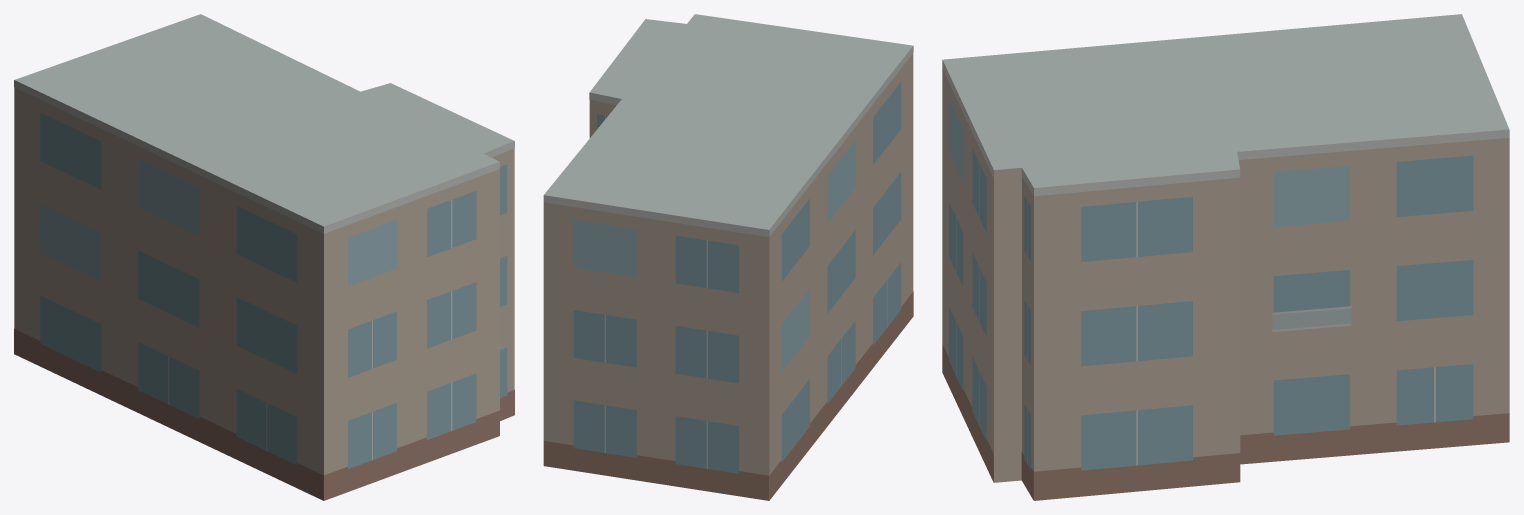
The model's file is survey-upis-32640936.glb.
The picture shows the model from 3 angles, left to right: view 1: azimuth 30°, elevation 25°; view 2: azimuth 150°, elevation 25°; view 3: azimuth 270°, elevation 25°; orthographic projection. The views are drawn at different scales.
Parts seen in each view (by area): view 1: survey-upis-32640936.tmp; view 2: survey-upis-32640936.tmp; view 3: survey-upis-32640936.tmp.
Boxes of the visible parts, <box> form: survey-upis-32640936.tmp: <box>14,14,514,500</box>; survey-upis-32640936.tmp: <box>543,14,913,500</box>; survey-upis-32640936.tmp: <box>942,14,1509,500</box>.
Size of the model in its own units: 10.93 by 9.15 by 15.05.
